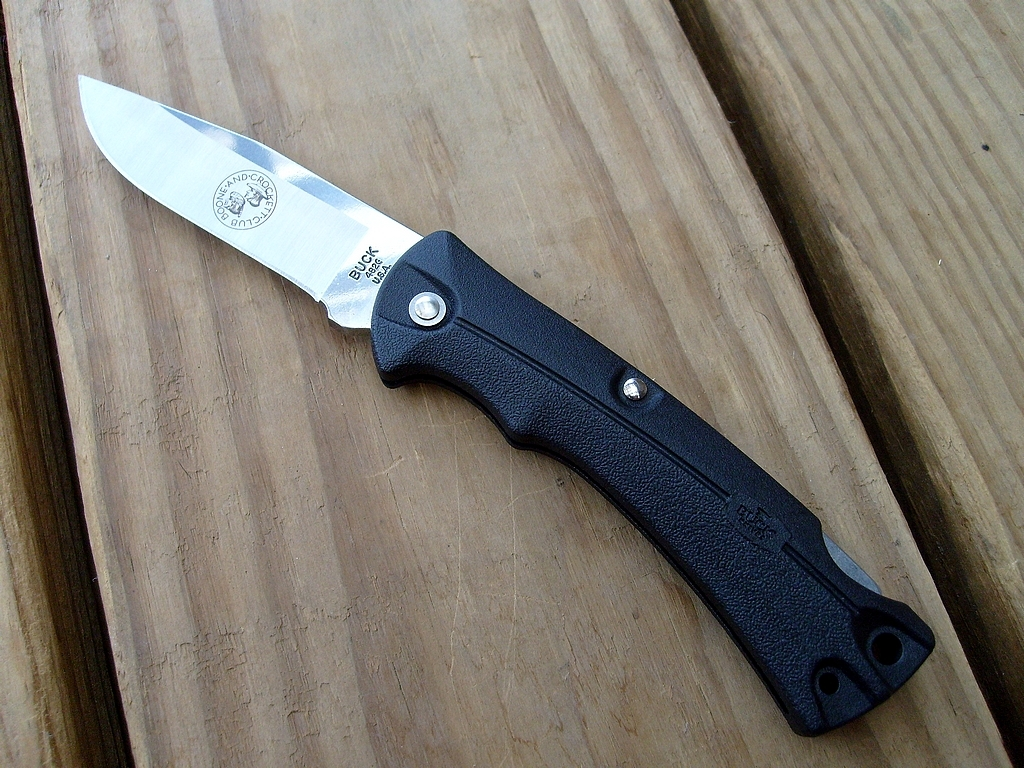knife: (77, 74, 935, 737)
